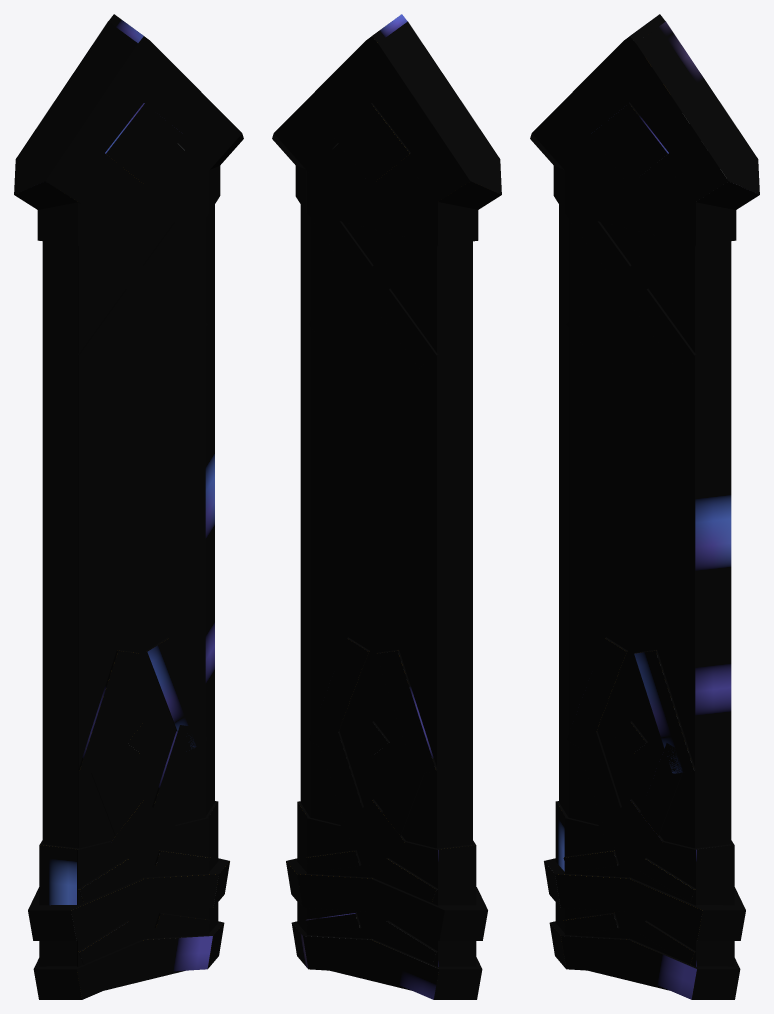
File: reinhard_sheath.obj
3 views of the same model, side by side, from view 1: azimuth 30°, elevation 25°; view 2: azimuth 150°, elevation 25°; view 3: azimuth 330°, elevation 25° (orthographic).
Parts seen in each view (by area): view 1: dragon; view 2: dragon; view 3: dragon.
Part boxes in pixels (x1=…): dragon: x1=14, y1=14, x2=243, y2=999; dragon: x1=272, y1=14, x2=501, y2=999; dragon: x1=530, y1=14, x2=759, y2=999.
Size of the model in its own units: 0.624 by 2.47 by 0.1504.
